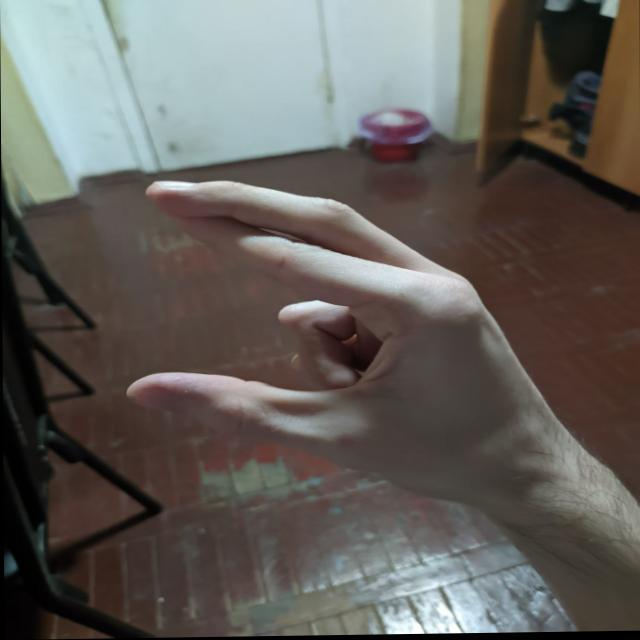ia: (120, 159, 539, 510)
